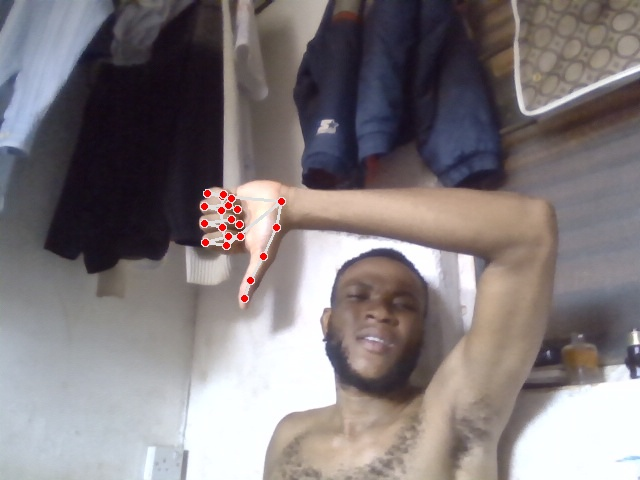thumbsdown: (197, 176, 291, 312)
